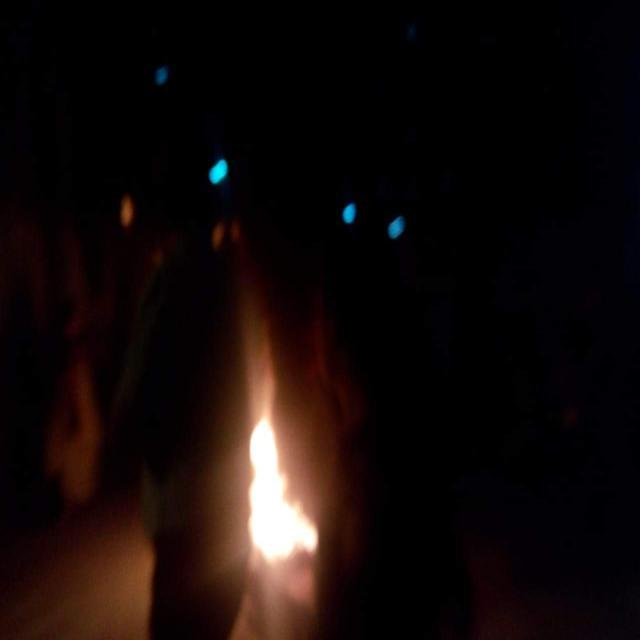Fire: (236, 390, 316, 600)
